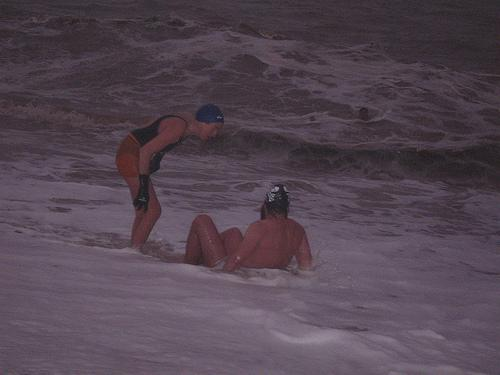human: (115, 107, 225, 256), (174, 184, 314, 273)
